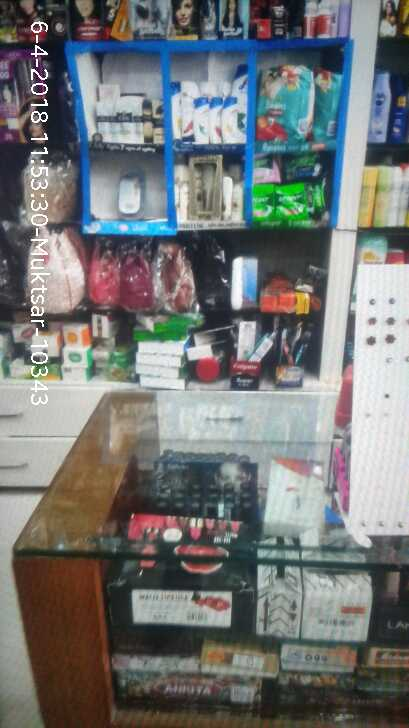venus: (117, 165, 144, 222)
